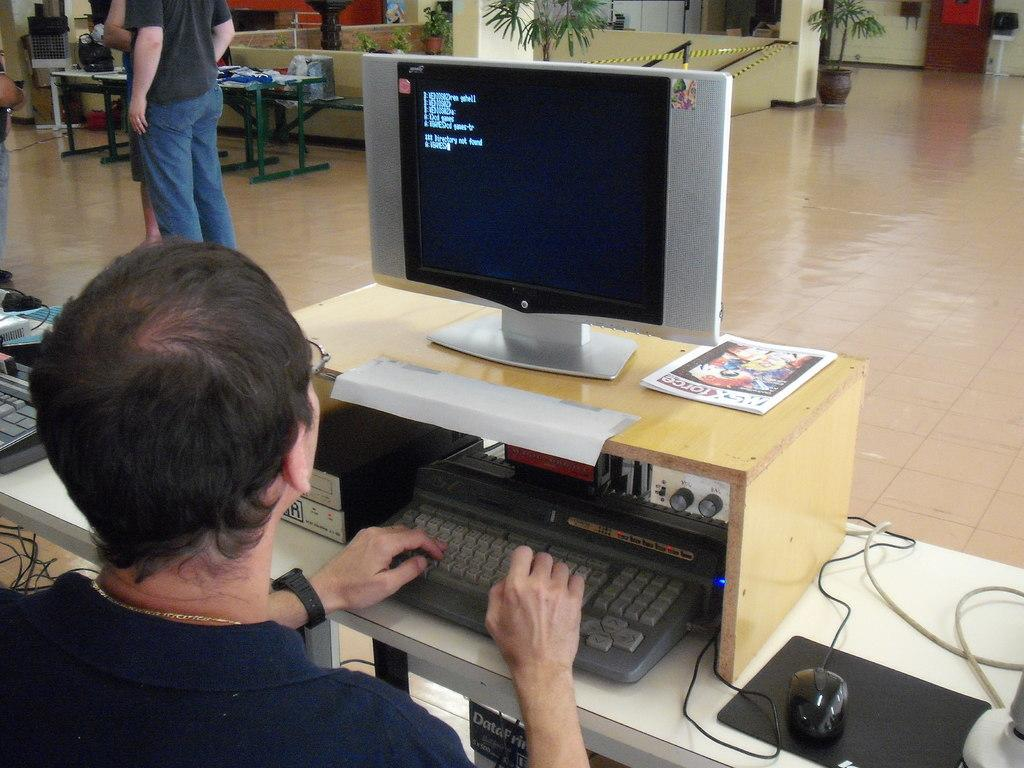Computer-keyboard: (390, 460, 717, 681), (0, 369, 45, 474)
Computer-monitor: (344, 61, 740, 378)
